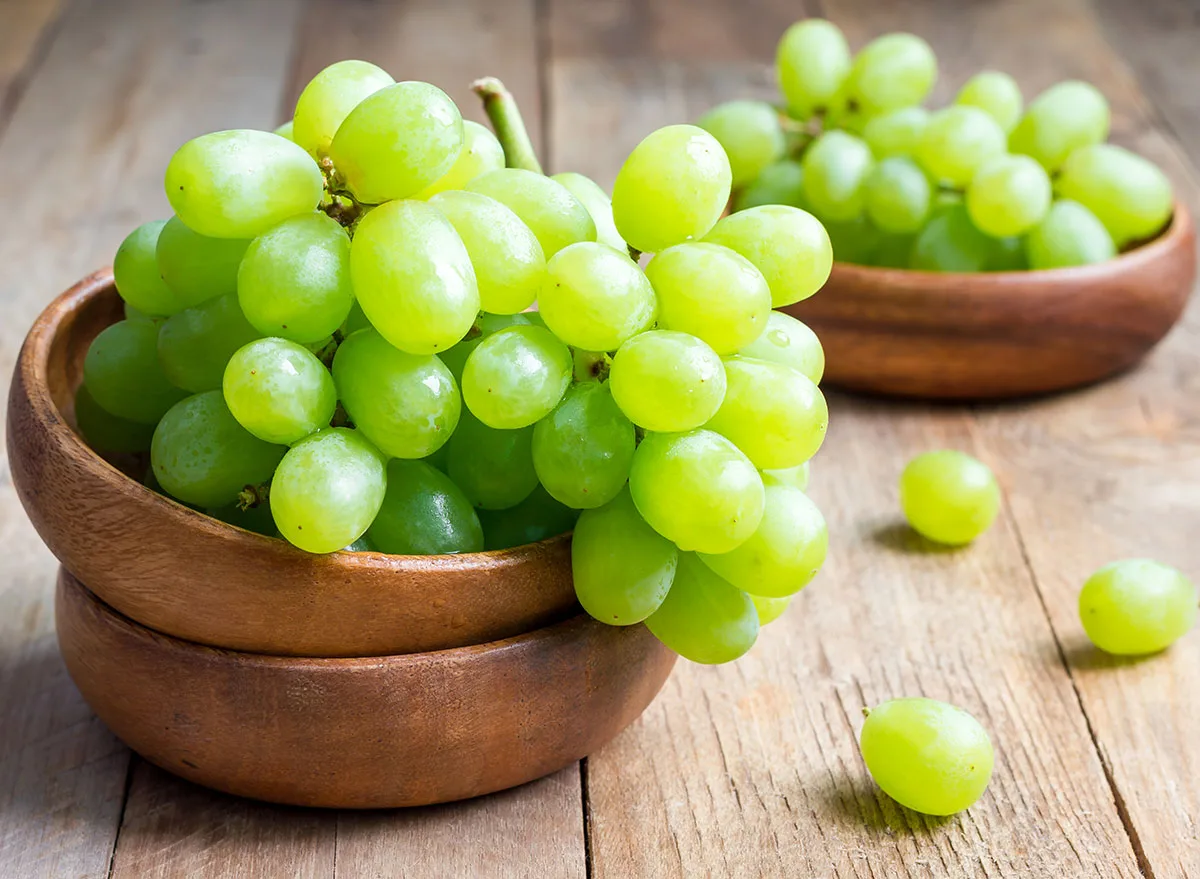Healthy: (348, 203, 477, 349), (168, 119, 327, 229), (628, 432, 766, 552), (859, 691, 990, 814), (566, 483, 675, 627), (340, 331, 462, 458), (422, 195, 545, 315), (334, 78, 451, 203), (612, 123, 732, 244), (644, 240, 766, 359), (154, 387, 279, 502), (267, 432, 386, 552), (535, 239, 660, 353), (711, 491, 829, 603), (240, 218, 345, 340), (227, 336, 340, 448), (370, 452, 482, 564), (608, 331, 727, 434), (461, 325, 571, 435), (540, 377, 633, 505), (656, 554, 761, 666), (725, 197, 833, 304), (712, 367, 828, 461), (477, 164, 607, 247), (1083, 551, 1180, 653), (87, 315, 168, 422), (162, 292, 241, 390), (298, 63, 394, 141), (110, 211, 178, 310), (162, 226, 238, 297)
